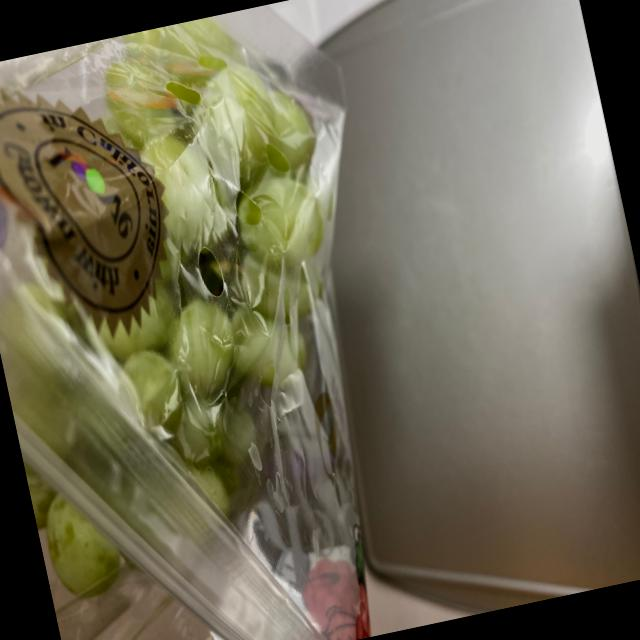grapes: (0, 1, 395, 606)
